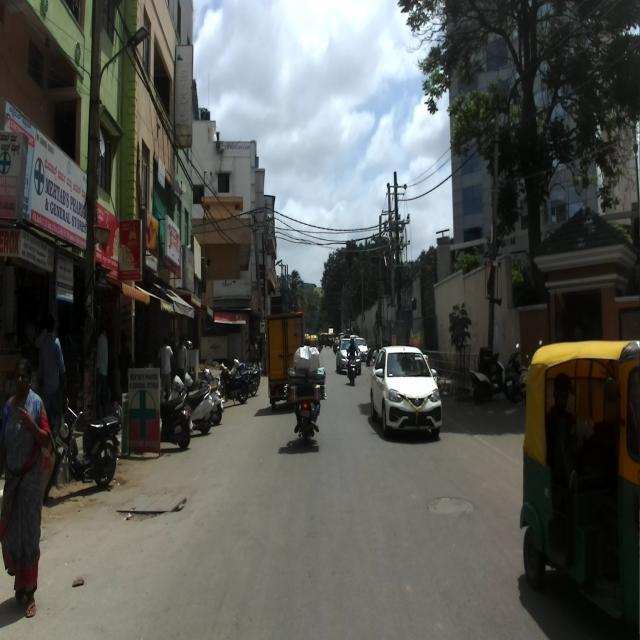autorickshaw: (519, 340, 640, 625)
car: (370, 344, 442, 440)
motorcycle: (42, 390, 124, 504), (218, 364, 248, 408)
scooter: (167, 374, 214, 435)
